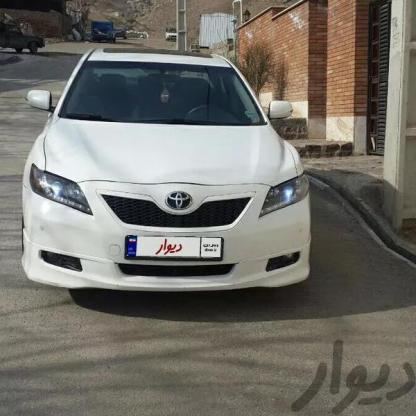Car: (0, 43, 328, 333), (0, 22, 47, 56), (90, 17, 114, 43), (166, 28, 180, 43), (112, 26, 126, 41)
